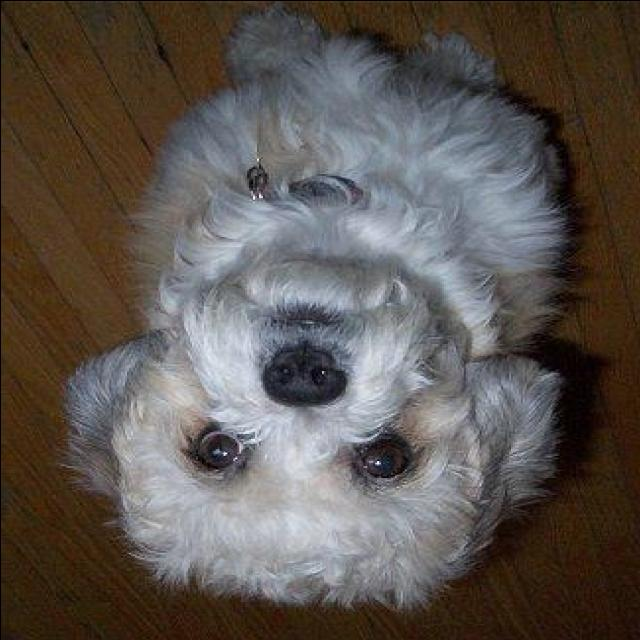dandie_dinmont: (59, 8, 573, 610)
